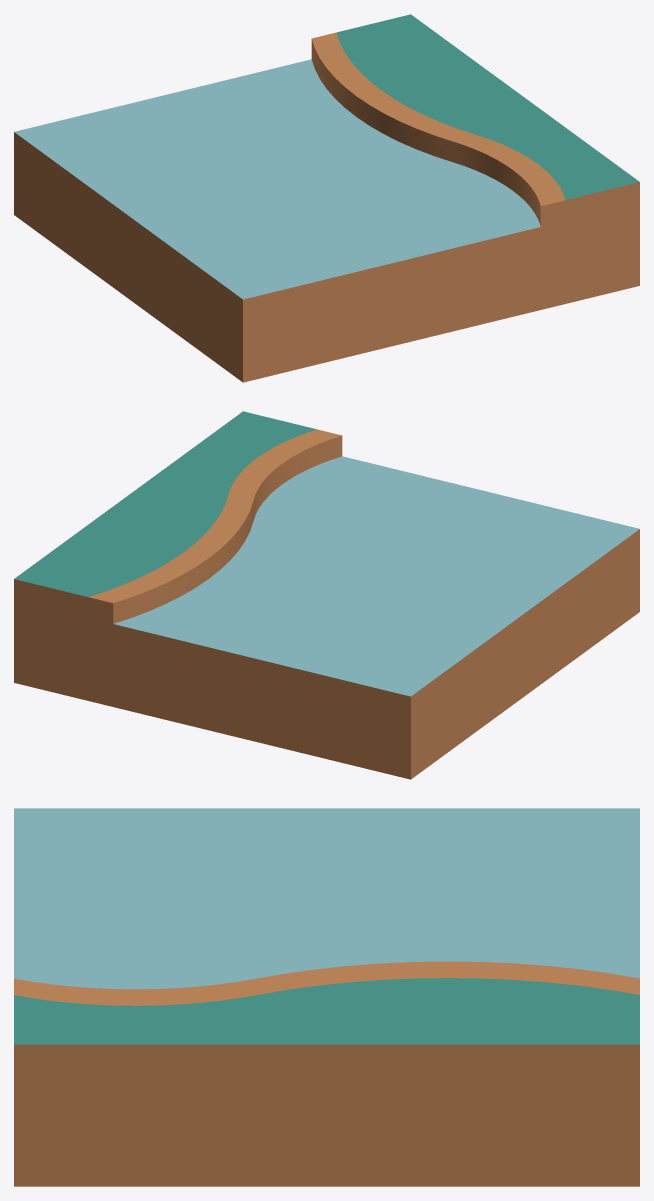
File: ground_dirtRiverSide.obj
3 views of the same model, one above another, from view 1: azimuth 30°, elevation 25°; view 2: azimuth 150°, elevation 25°; view 3: azimuth 270°, elevation 25° (orthographic). The views are drawn at different scales.
Visible parts, largest first — view 1: ground_dirtRiverSide; view 2: ground_dirtRiverSide; view 3: ground_dirtRiverSide.
Boxes of the visible parts, x1,y1,x2,y2 form: ground_dirtRiverSide: (14, 14, 639, 382); ground_dirtRiverSide: (14, 411, 639, 779); ground_dirtRiverSide: (14, 808, 639, 1186).
Size of the model in its own units: 10 by 2.5 by 10.
